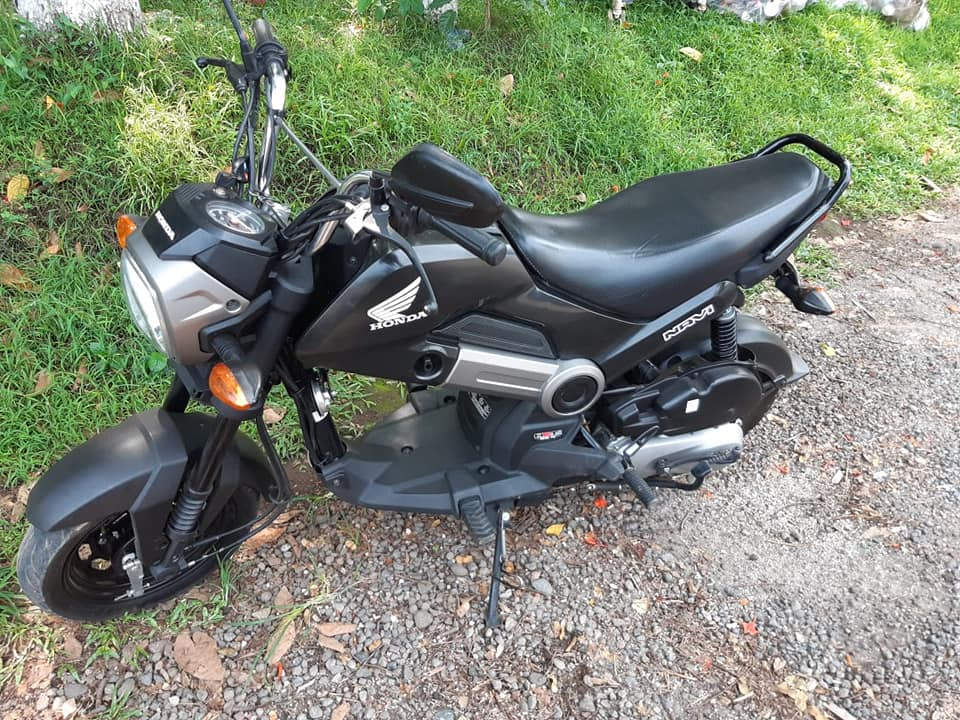moto: (22, 16, 853, 639)
